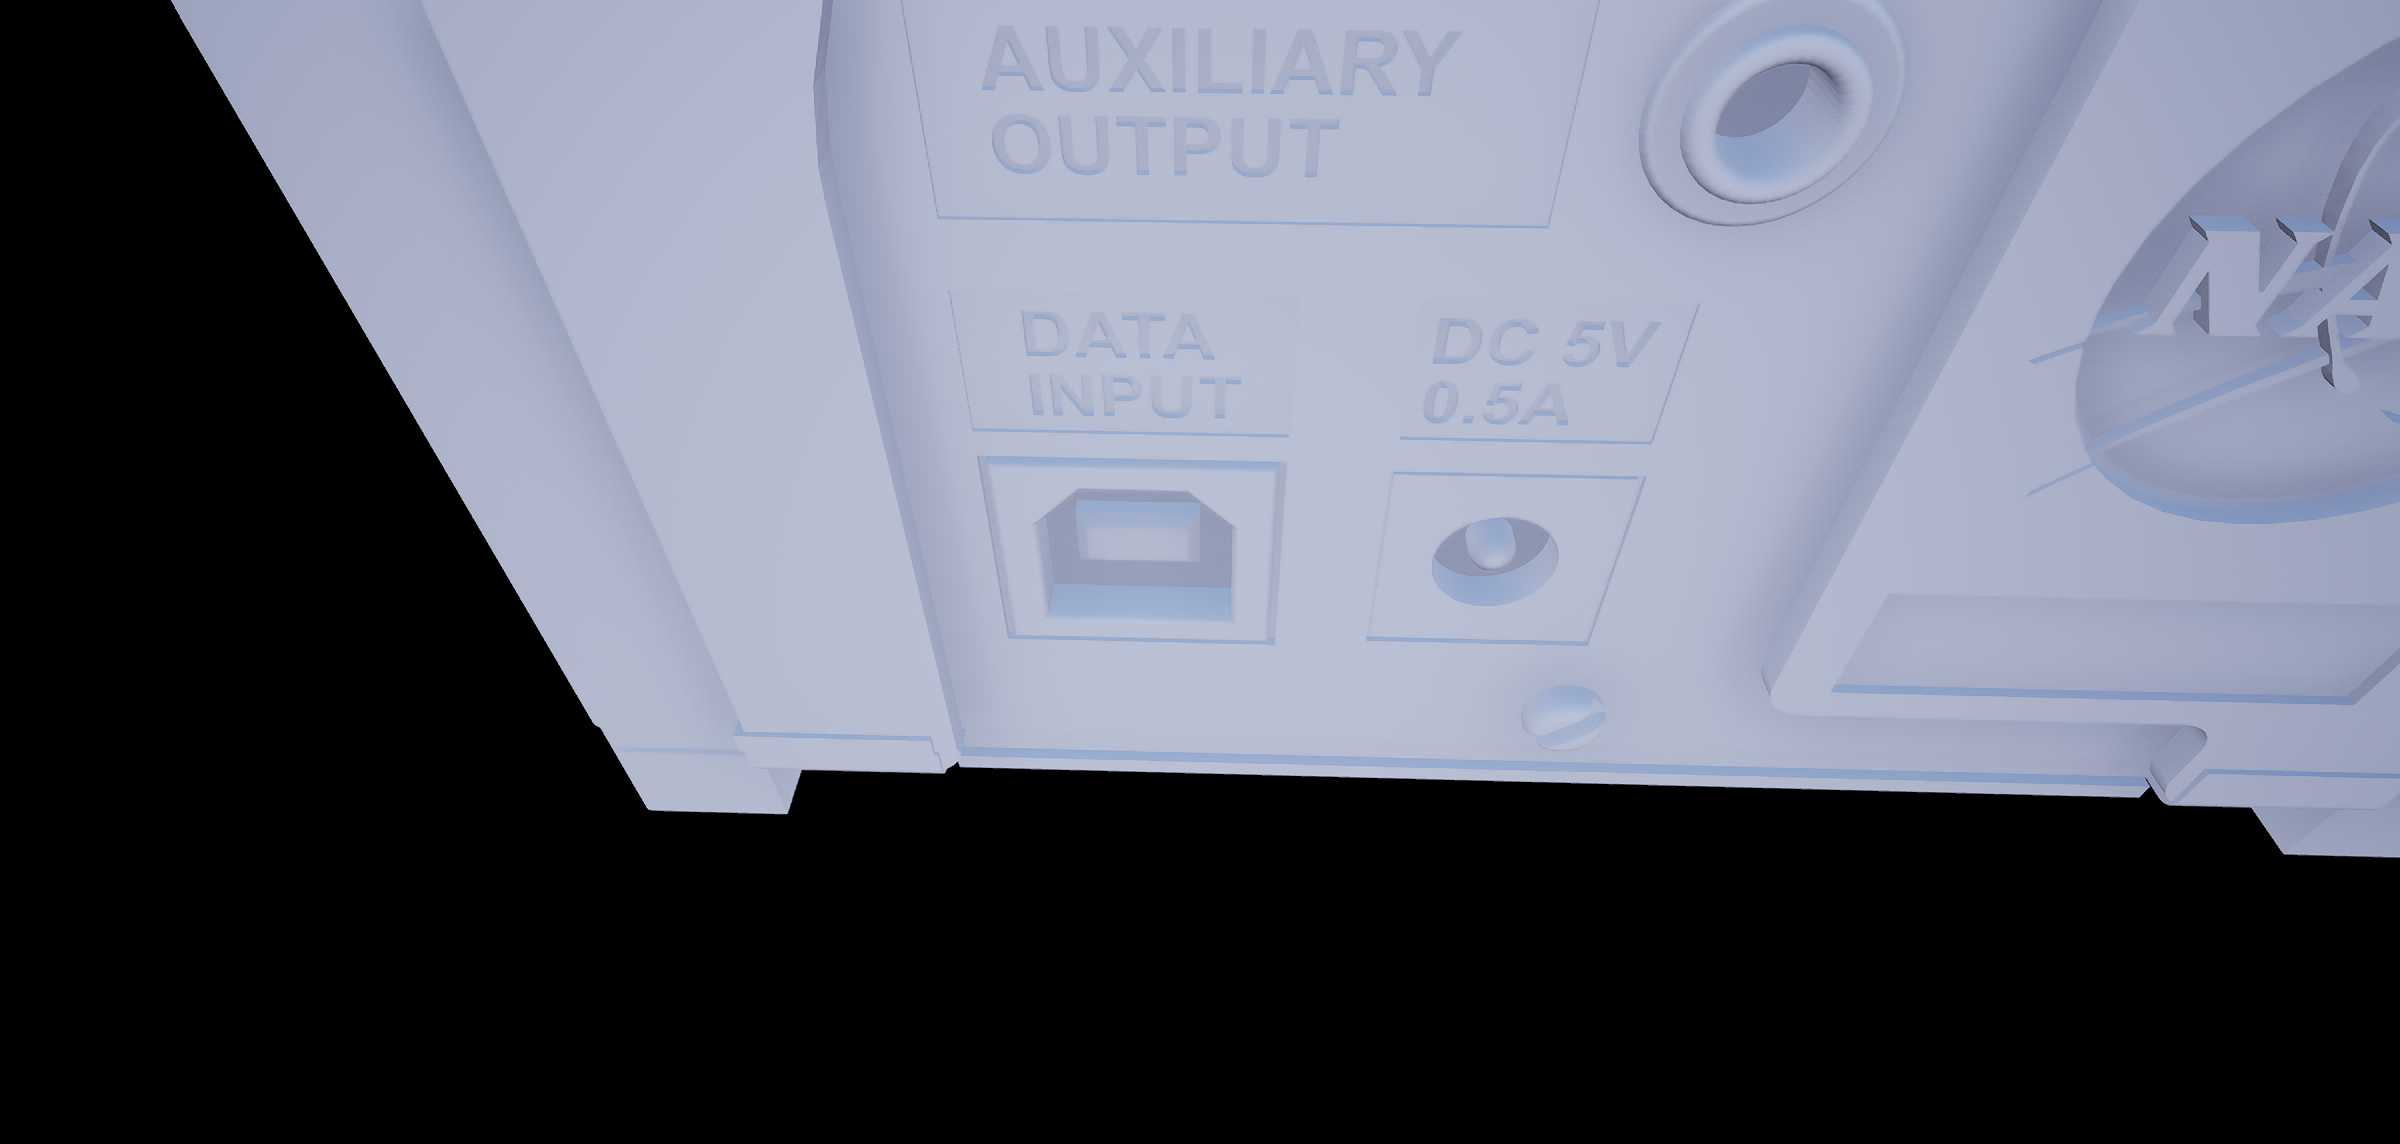aux: (1627, 2, 1907, 222)
dc: (1423, 510, 1578, 606)
usb: (1016, 473, 1260, 632)
